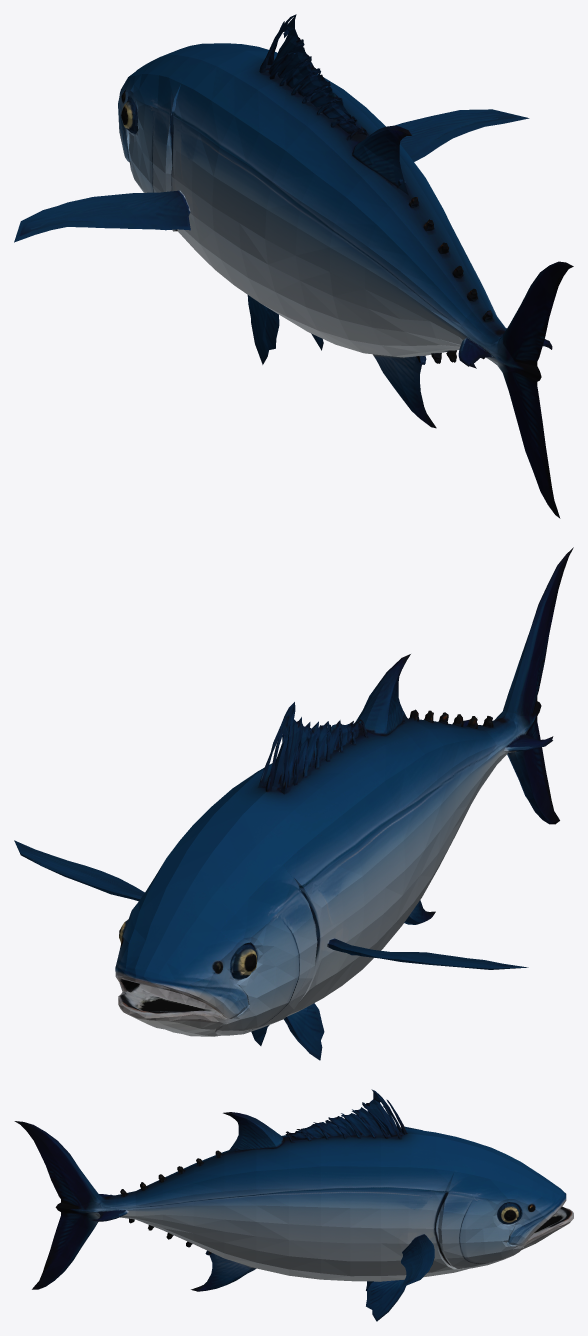
Rendered from tuna+fish+3d+model.glb.
3 renders of one model, top to bottom at view 1: azimuth 30°, elevation 25°; view 2: azimuth 150°, elevation 25°; view 3: azimuth 270°, elevation 25°, orthographic. The views are drawn at different scales.
Visible parts, largest first — view 1: tripo_node_1252d078-32d8-4556-9277-073d8bd37bd8; view 2: tripo_node_1252d078-32d8-4556-9277-073d8bd37bd8; view 3: tripo_node_1252d078-32d8-4556-9277-073d8bd37bd8.
Boxes of the visible parts, x1,y1,x2,y2 form: tripo_node_1252d078-32d8-4556-9277-073d8bd37bd8: (14,14,573,518); tripo_node_1252d078-32d8-4556-9277-073d8bd37bd8: (14,547,573,1060); tripo_node_1252d078-32d8-4556-9277-073d8bd37bd8: (14,1089,573,1321).
Bounding box in the file's own units: 0.6816 × 0.4395 × 0.998.
1 material, 1 textured.
